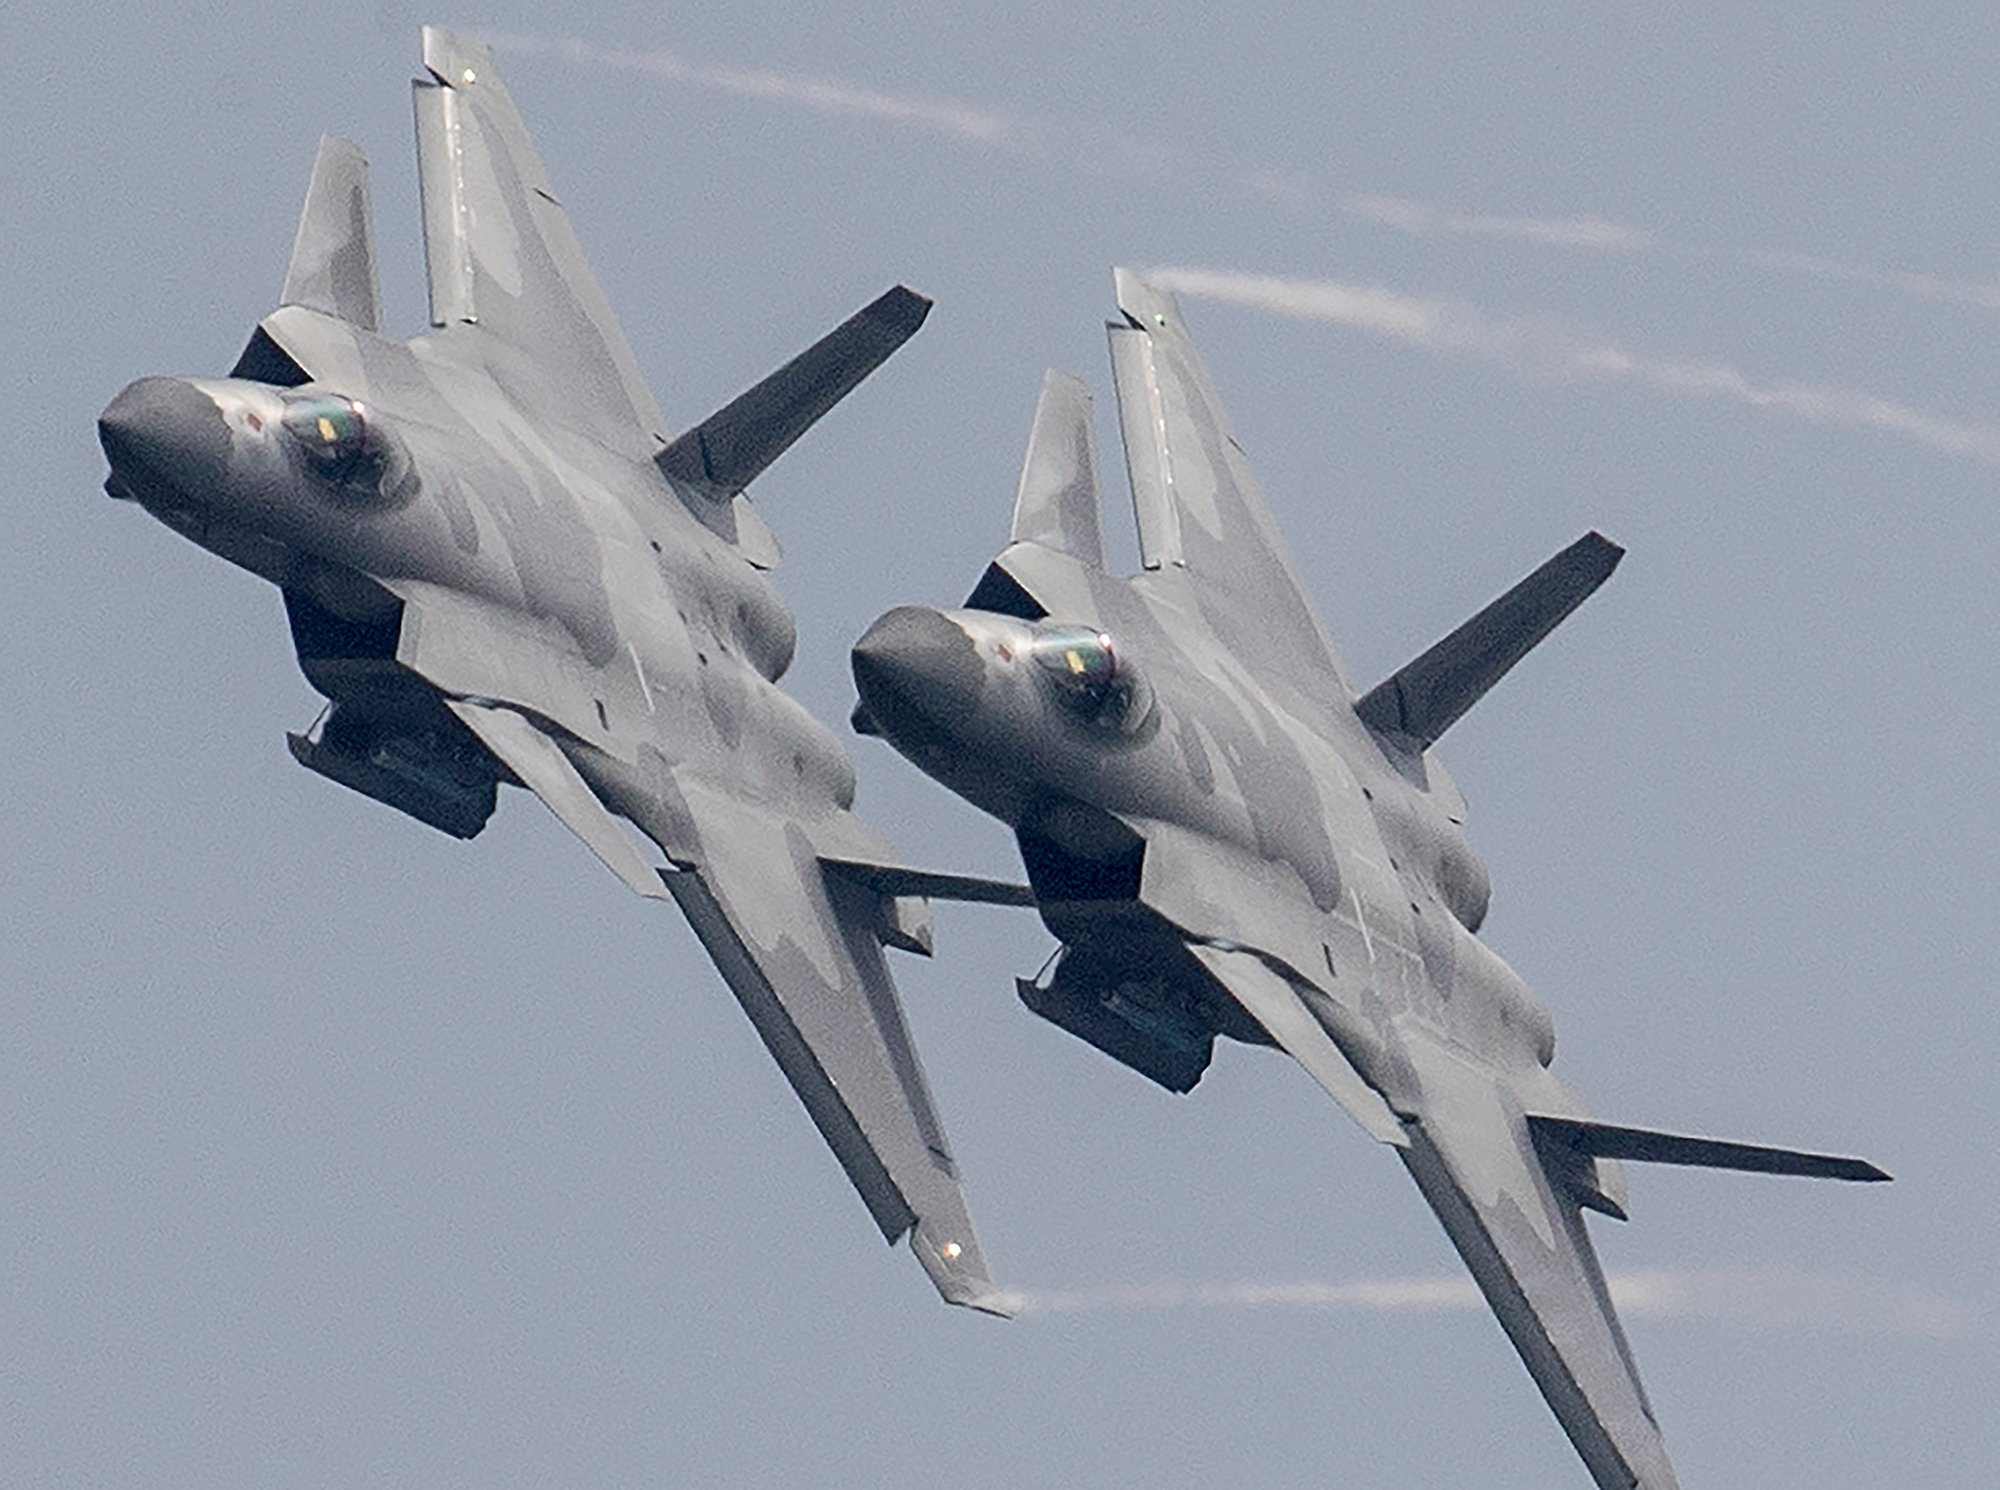J20: (848, 261, 1892, 1490), (94, 27, 1036, 1321)
